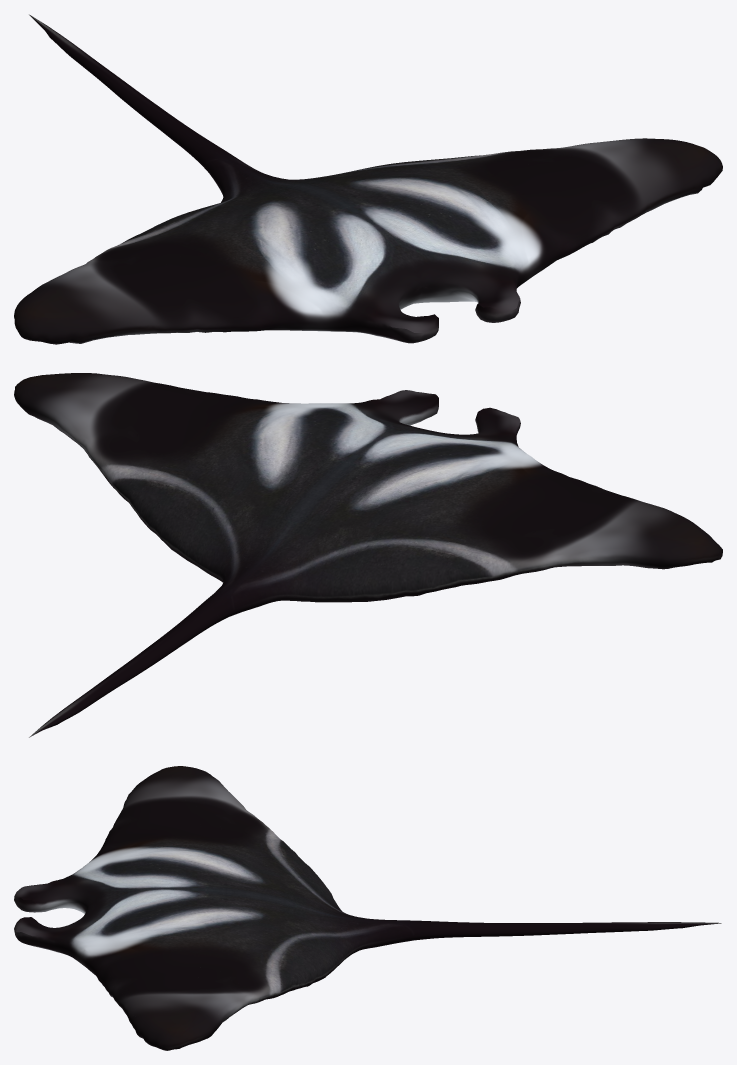
Rendered from mantaRay1_edit_for_FBX.fbx.
3 views of the same model, one above another, from view 1: azimuth 30°, elevation 25°; view 2: azimuth 150°, elevation 25°; view 3: azimuth 270°, elevation 25° (orthographic). The views are drawn at different scales.
Parts seen in each view (by area): view 1: mantaRay1; view 2: mantaRay1; view 3: mantaRay1.
Boxes of the visible parts, <box> form: mantaRay1: <box>14,14,722,344</box>; mantaRay1: <box>14,373,722,737</box>; mantaRay1: <box>14,766,721,1050</box>.
Size of the model in its own units: 1398 by 141 by 1516.
